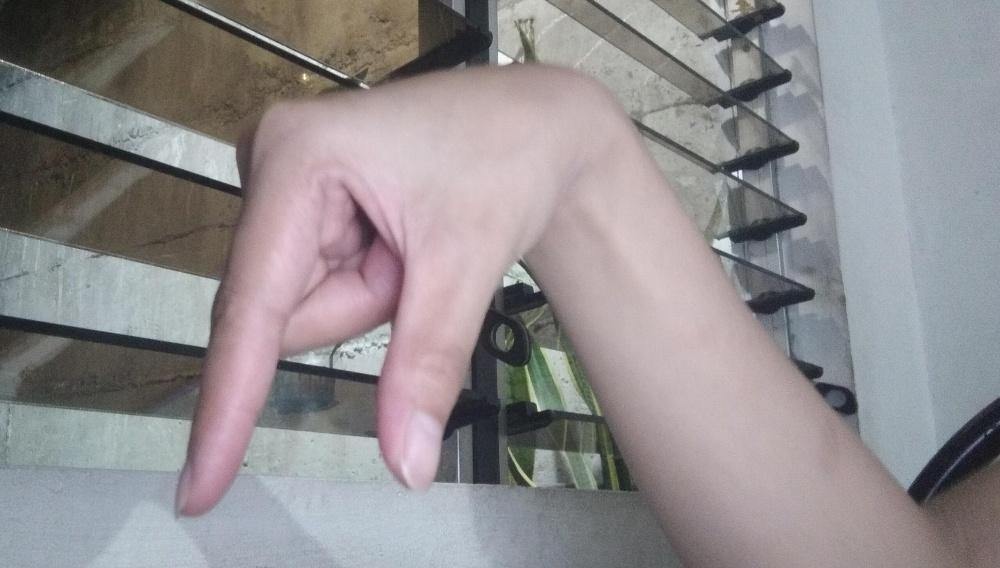q: (171, 61, 603, 526)
